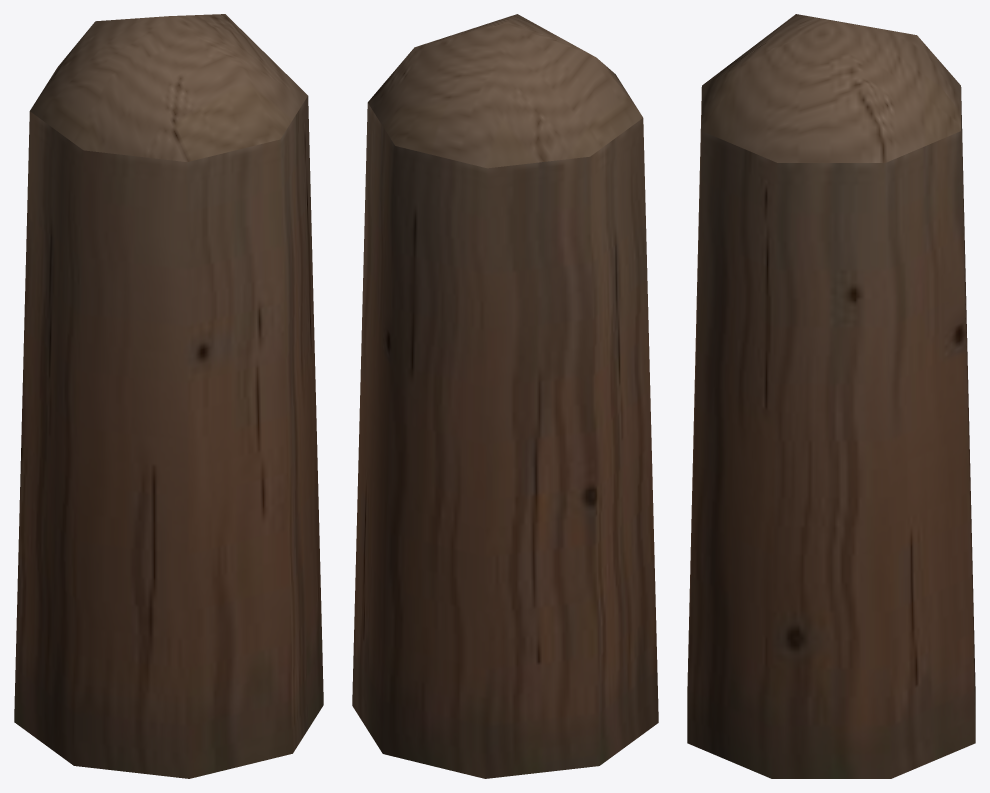
The model's file is wooden-bollard.glb.
3 renders of one model, left to right at view 1: azimuth 30°, elevation 25°; view 2: azimuth 150°, elevation 25°; view 3: azimuth 270°, elevation 25°, orthographic.
Parts seen in each view (by area): view 1: Wooden-bollardBody; view 2: Wooden-bollardBody; view 3: Wooden-bollardBody.
Boxes of the visible parts, box(x1,y1,x2,y2) form: Wooden-bollardBody: box(14, 14, 323, 778); Wooden-bollardBody: box(352, 14, 658, 778); Wooden-bollardBody: box(687, 14, 975, 778).
Size of the model in its own units: 0.3 by 0.8 by 0.3.
Materials: 1 (1 with a texture image).
